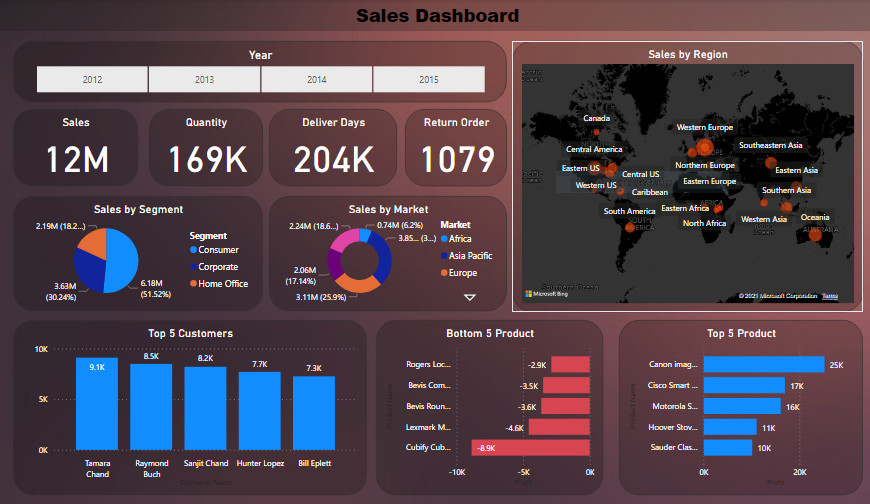

The page's visual inventory and layout, read from the dashboard file:
{"tool":"powerbi","page":{"name":"Page 1","canvas":[1313,764],"ordinal":0},"visuals":[{"type":"card","title":"Sales","fields":{"Values":["Sum(Orders.Sales)"]},"box":[19.5,165.1,187.6,115.6],"z":0},{"type":"card","title":"Quantity","fields":{"Values":["Sum(Orders.Quantity)"]},"box":[223.6,165.1,171.1,115.6],"z":1000},{"type":"card","title":"Deliver Days","fields":{"Values":["Sum(Orders.Delivery Days)"]},"box":[403.8,165.1,192.1,115.6],"z":2000},{"type":"slicer","title":"Year","fields":{"Values":["Orders.Year"]},"box":[19.5,63,741.5,91.6],"z":3000},{"type":"card","title":"Return Order","fields":{"Values":["Sum(Returns.Return Order)"]},"box":[607.9,165.1,153.1,115.6],"z":4000},{"type":"map","fields":{"Size":["Sum(Orders.Sales)"],"Category":["Orders.Region"]},"box":[768.5,63,526.8,406.8],"z":5000},{"type":"barChart","title":"Top 5 Product","fields":{"Y":["Sum(Orders.Profit)"],"Category":["Orders.Product Name"]},"box":[929.1,481.8,366.2,262.7],"z":5001},{"type":"barChart","title":"Bottom 5 Product","fields":{"Y":["Sum(Orders.Profit)"],"Category":["Orders.Product Name"]},"box":[564.4,481.8,340.7,262.7],"z":5002},{"type":"pieChart","fields":{"Category":["Orders.Segment"],"Y":["Sum(Orders.Sales)"]},"box":[19.5,295.7,375.2,172.6],"z":5003},{"type":"columnChart","title":"Top 5 Customers","fields":{"Category":["Orders.Customer Name"],"Y":["Sum(Orders.Profit)"]},"box":[19.5,481.8,531.3,262.7],"z":5004},{"type":"donutChart","fields":{"Y":["Sum(Orders.Sales)"],"Series":["Orders.Market"]},"box":[403.8,295.7,357.2,172.6],"z":5005},{"type":"textbox","box":[0,0,1313.4,48],"z":5006}]}

Visuals, with their boxes in screenshot pixels (x1, y1, x2, y2), scaled from the page's 1313x764 canvas onto the 870x504 screenshot:
"Sales" card: box=[13, 109, 137, 185]
"Quantity" card: box=[148, 109, 262, 185]
"Deliver Days" card: box=[268, 109, 395, 185]
"Year" slicer: box=[13, 42, 504, 102]
"Return Order" card: box=[403, 109, 504, 185]
map - Sum(Orders.Sales) x Orders.Region: box=[509, 42, 858, 310]
"Top 5 Product" barChart: box=[616, 318, 858, 491]
"Bottom 5 Product" barChart: box=[374, 318, 600, 491]
pieChart - Orders.Segment x Sum(Orders.Sales): box=[13, 195, 262, 309]
"Top 5 Customers" columnChart: box=[13, 318, 365, 491]
donutChart - Sum(Orders.Sales) x Orders.Market: box=[268, 195, 504, 309]
textbox: box=[0, 0, 869, 32]
